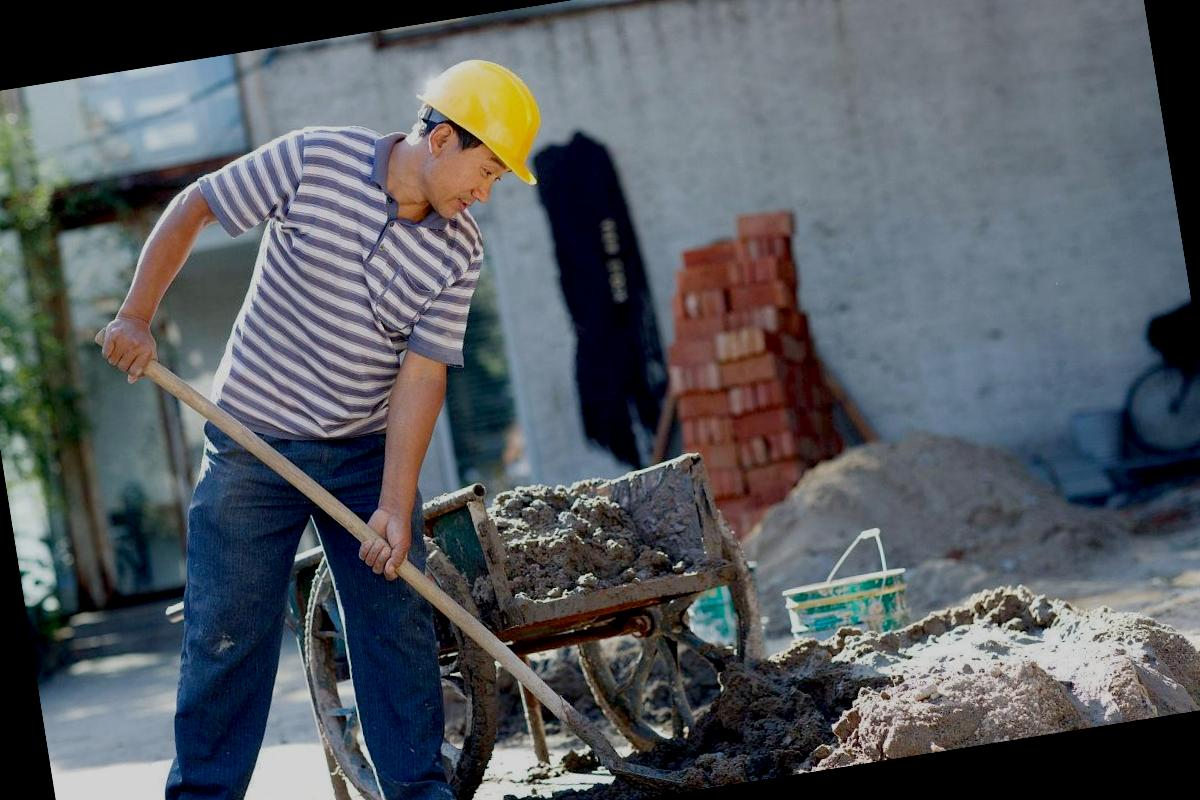helmet: (407, 44, 561, 206)
no_vest: (186, 103, 488, 476)
person: (50, 43, 660, 800)
